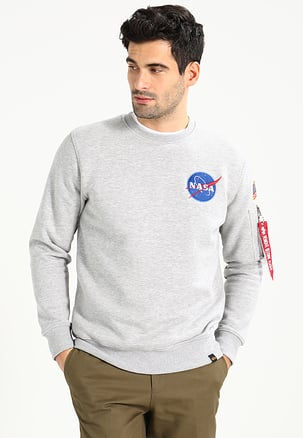NASA: (182, 169, 224, 204)
